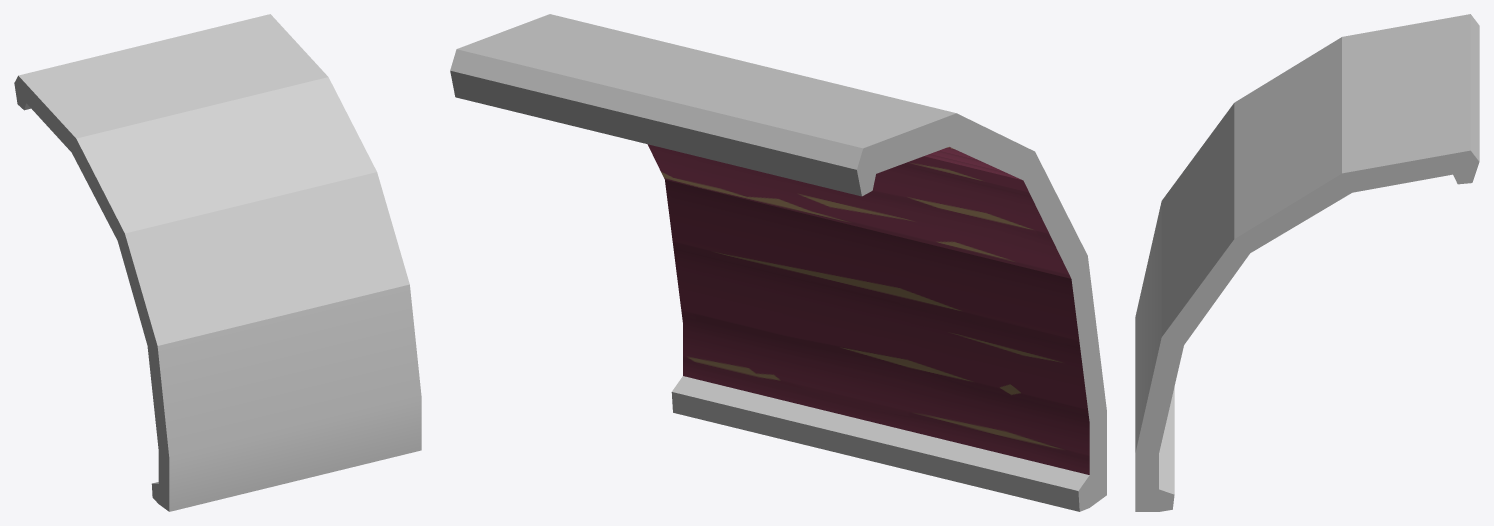
Rendered from SM_Bld_Roof_Convex_01.fbx.
The picture shows the model from 3 angles, left to right: view 1: azimuth 30°, elevation 25°; view 2: azimuth 150°, elevation 25°; view 3: azimuth 270°, elevation 25°; orthographic projection. The views are drawn at different scales.
Parts seen in each view (by area): view 1: SM_Bld_Roof_Convex_01; view 2: SM_Bld_Roof_Convex_01; view 3: SM_Bld_Roof_Convex_01.
Boxes of the visible parts, <box> form: SM_Bld_Roof_Convex_01: <box>14,14,421,511</box>; SM_Bld_Roof_Convex_01: <box>450,14,1106,511</box>; SM_Bld_Roof_Convex_01: <box>1135,14,1479,511</box>.
Bounding box in the file's own units: 250 × 309 × 266.
